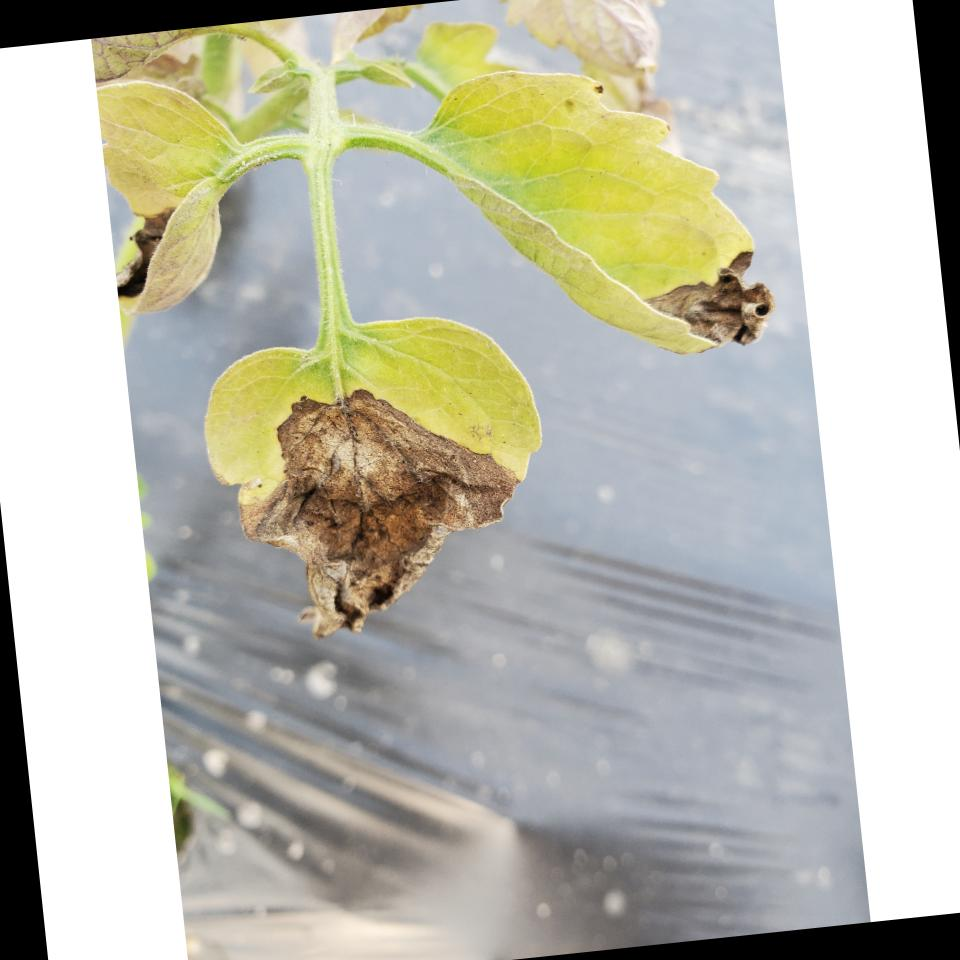tomato_yellow_leaf_curl_virus: (424, 45, 777, 377), (202, 311, 558, 628), (94, 69, 253, 314)
